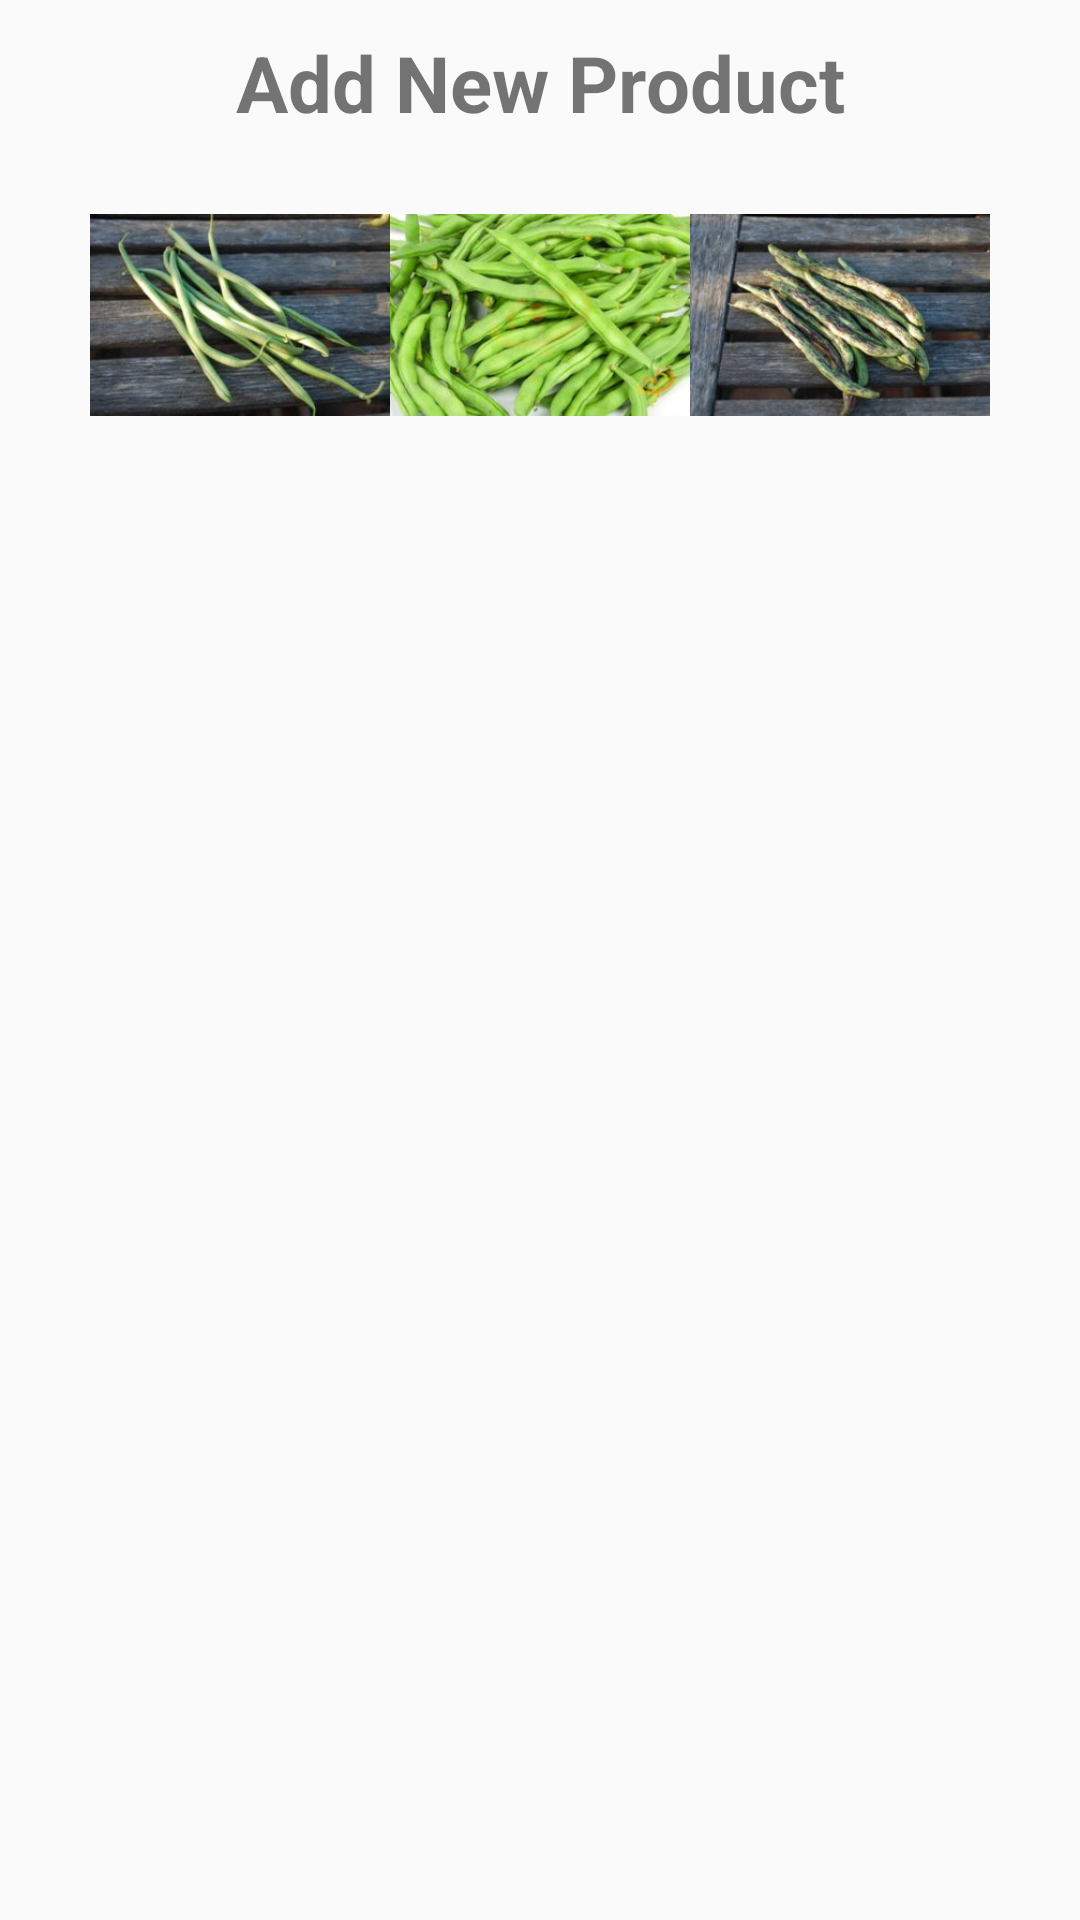

Named icons in this screenshot (1080px×1920px) and their centers, [x,y]:
polebeans: [840,315]
